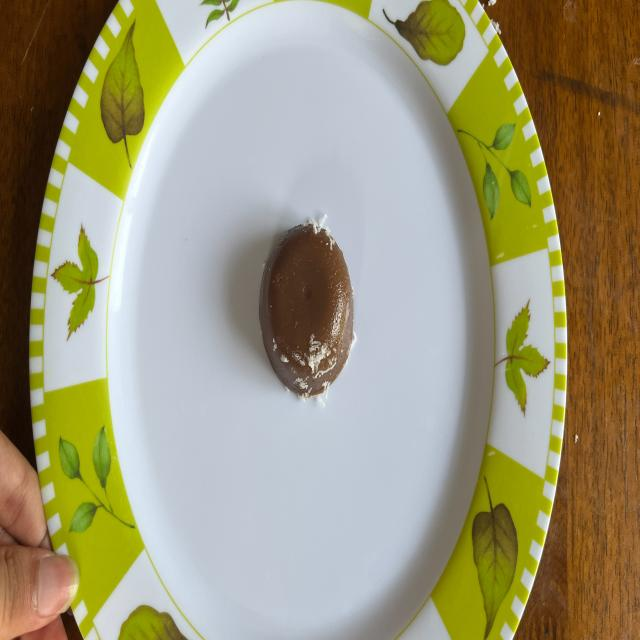Kuih lompang: (259, 218, 354, 398)
